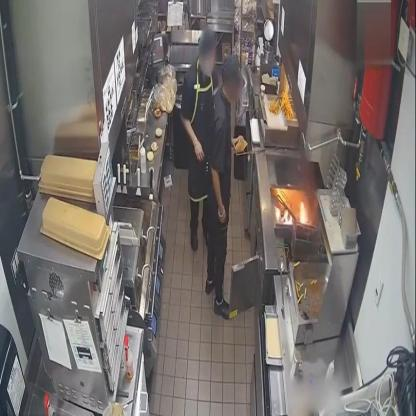fire: (294, 195, 313, 229), (278, 206, 293, 227)
